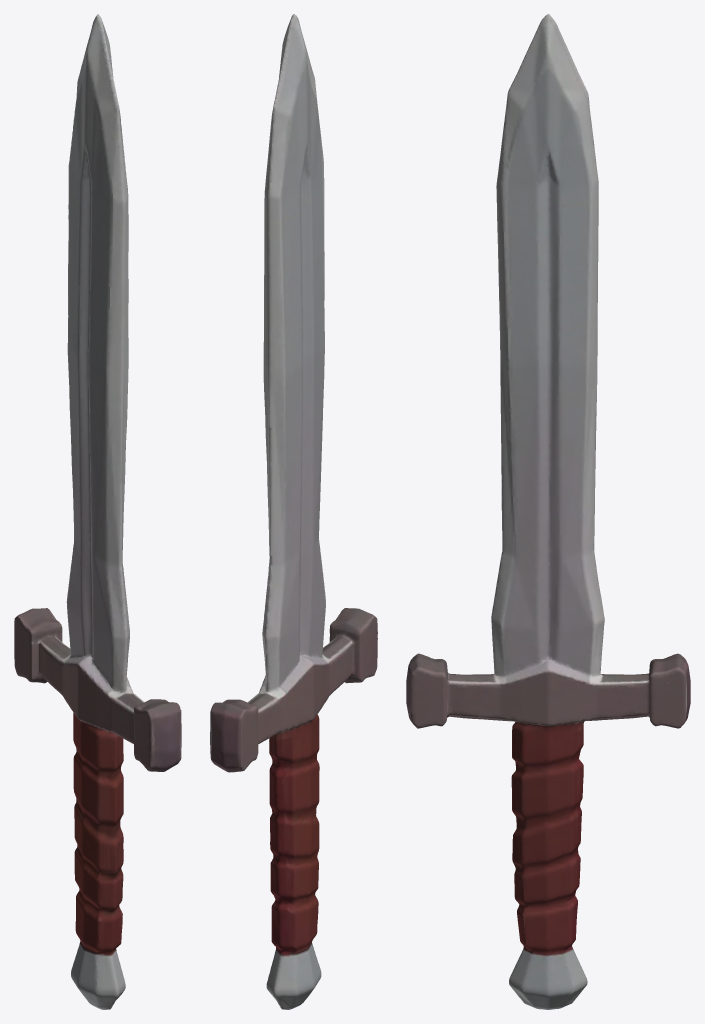
The model's file is w_footman_sword.glb.
The picture shows the model from 3 angles, left to right: view 1: azimuth 30°, elevation 25°; view 2: azimuth 150°, elevation 25°; view 3: azimuth 270°, elevation 25°; orthographic projection.
Parts seen in each view (by area): view 1: tripo_node_acbbfc2d-d912-464e-81ce-930ea50e4542; view 2: tripo_node_acbbfc2d-d912-464e-81ce-930ea50e4542; view 3: tripo_node_acbbfc2d-d912-464e-81ce-930ea50e4542.
Boxes of the visible parts, <box> form: tripo_node_acbbfc2d-d912-464e-81ce-930ea50e4542: <box>14,14,181,1009</box>; tripo_node_acbbfc2d-d912-464e-81ce-930ea50e4542: <box>210,14,377,1009</box>; tripo_node_acbbfc2d-d912-464e-81ce-930ea50e4542: <box>406,14,690,1009</box>.
Bounding box in the file's own units: 0.0427 × 1 × 0.2593.
Materials: 1 (1 with a texture image).
